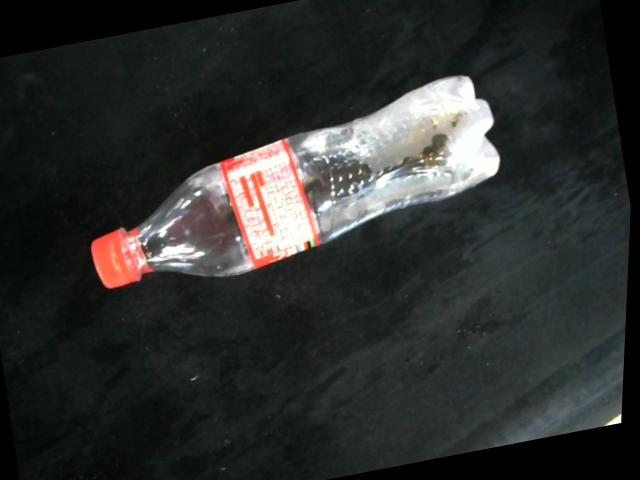bottle: (90, 72, 502, 289)
